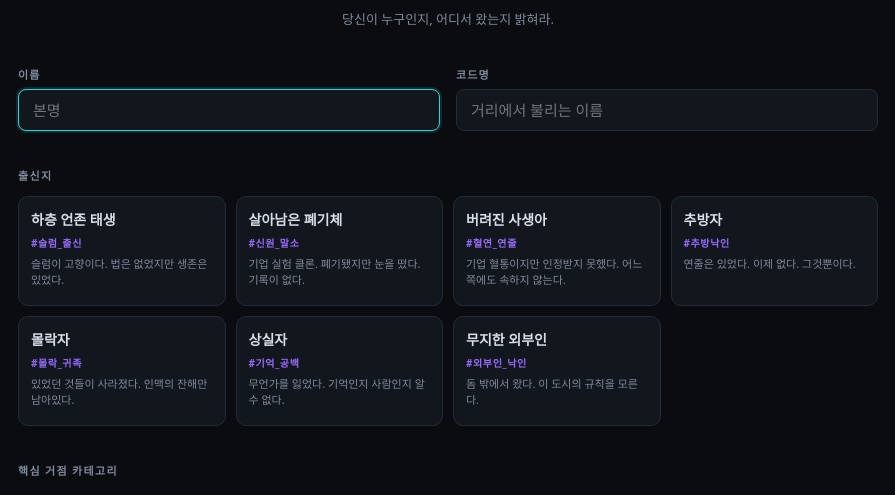
Scenario: CharacterCreation › 추방자 선택 시 팩션 추가 선택 UI가 나타난다
The image size is (895, 495).
Click the text "추방자" at (703, 220), box [684, 211, 722, 229]
(page scrolled)
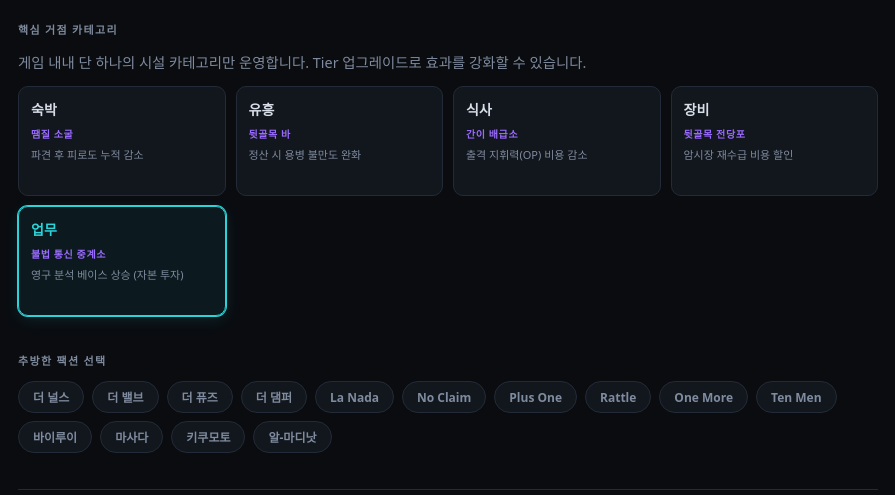
Check: the text "추방한 팩션 선택" is shown, box [18, 353, 106, 368]
